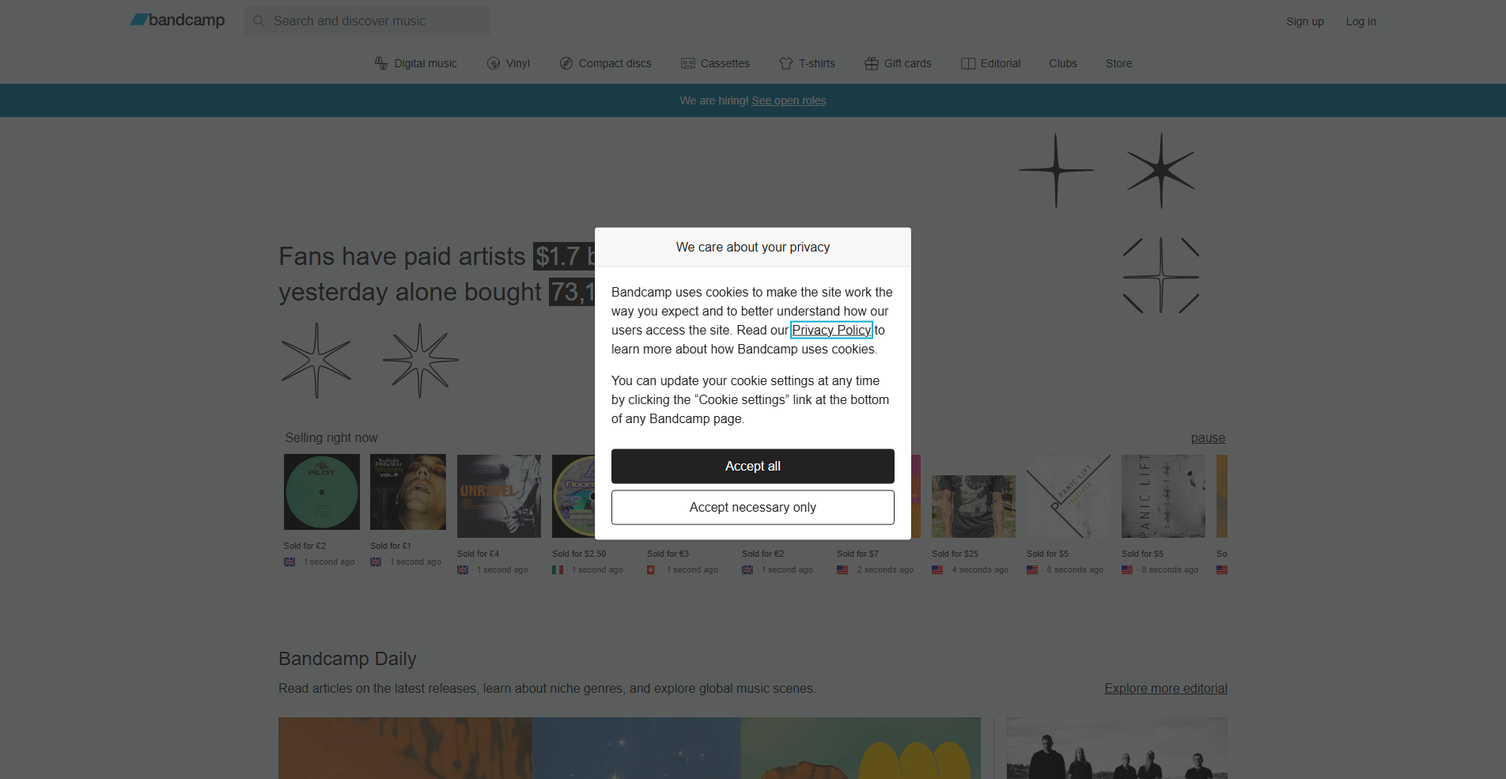button: (278, 718, 981, 779), (611, 441, 895, 529), (1007, 718, 1228, 779), (611, 448, 895, 483), (611, 490, 895, 524), (547, 43, 663, 84), (363, 43, 468, 84), (669, 43, 761, 84), (853, 43, 943, 84), (949, 43, 1032, 84), (767, 43, 846, 84), (474, 43, 541, 84), (1275, 0, 1335, 42), (1335, 0, 1387, 42), (1038, 43, 1088, 84), (1095, 43, 1143, 84), (1192, 428, 1226, 447), (1192, 431, 1226, 444), (0, 0, 2, 25), (495, 34, 497, 36)
input: (244, 6, 490, 36)
label: (244, 6, 244, 7)
link: (1043, 455, 1127, 578), (1138, 455, 1222, 578), (1233, 455, 1317, 578), (1328, 455, 1412, 578), (569, 455, 652, 578), (664, 455, 747, 578), (759, 455, 842, 578), (854, 455, 937, 578), (949, 455, 1032, 578), (1423, 455, 1506, 578), (1104, 680, 1228, 699), (130, 13, 225, 28), (792, 323, 871, 336), (752, 94, 826, 107)
menu_item: (98, 0, 1408, 42), (244, 6, 497, 36)
